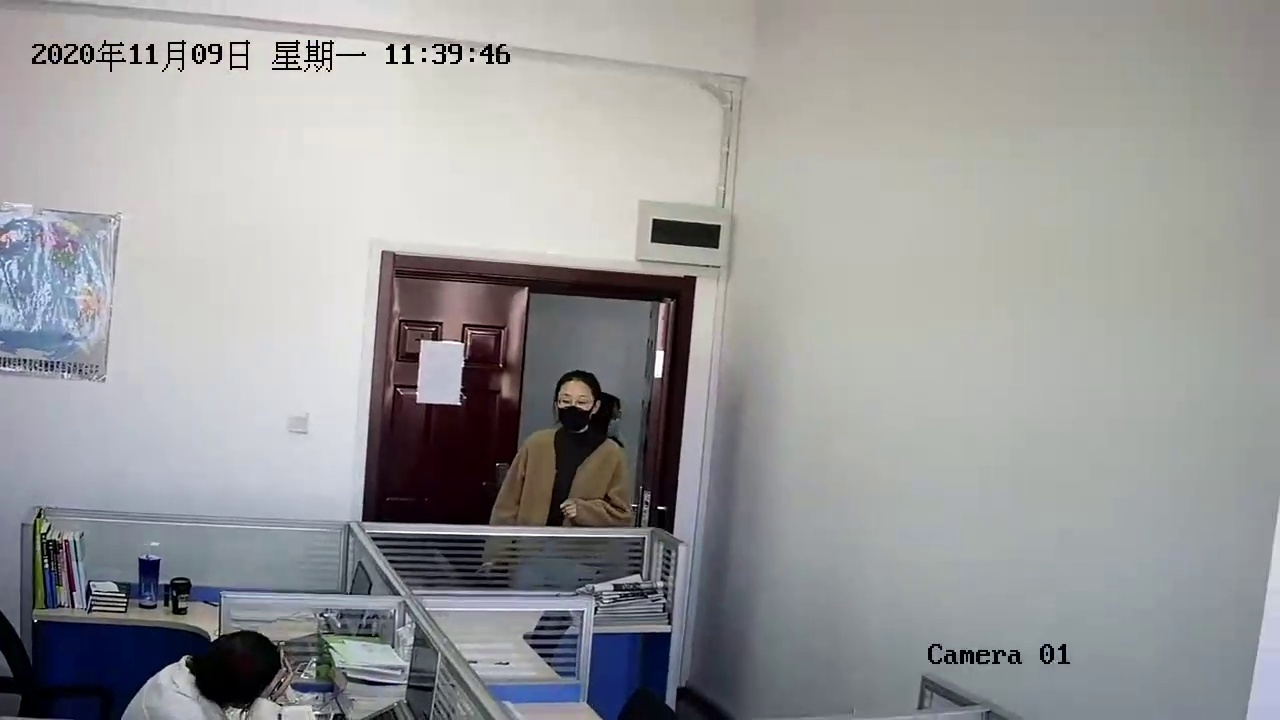mask: (557, 365, 598, 441), (600, 385, 629, 445)
